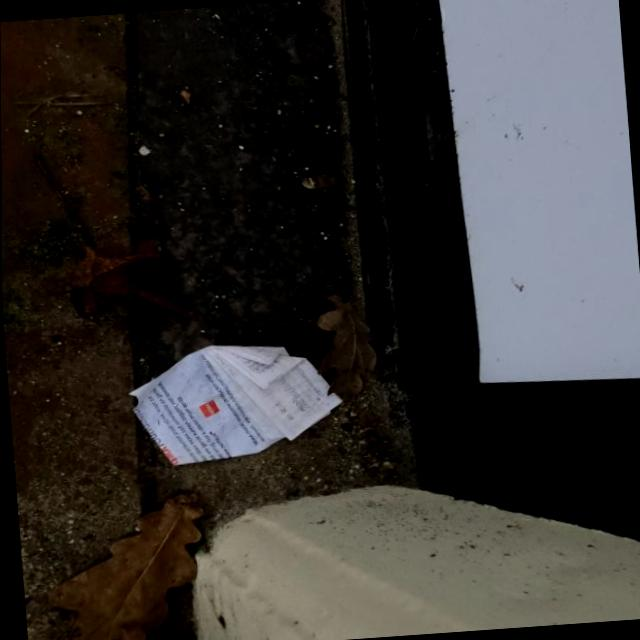Paper: (120, 334, 349, 472)
